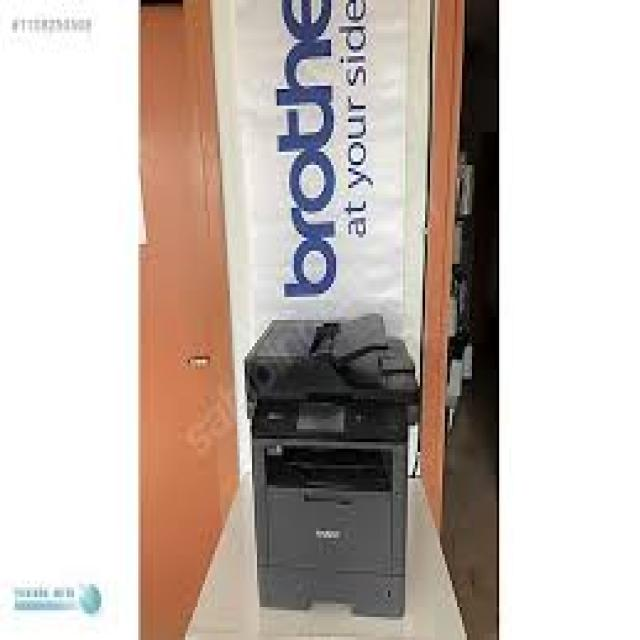printer: (242, 310, 420, 617)
